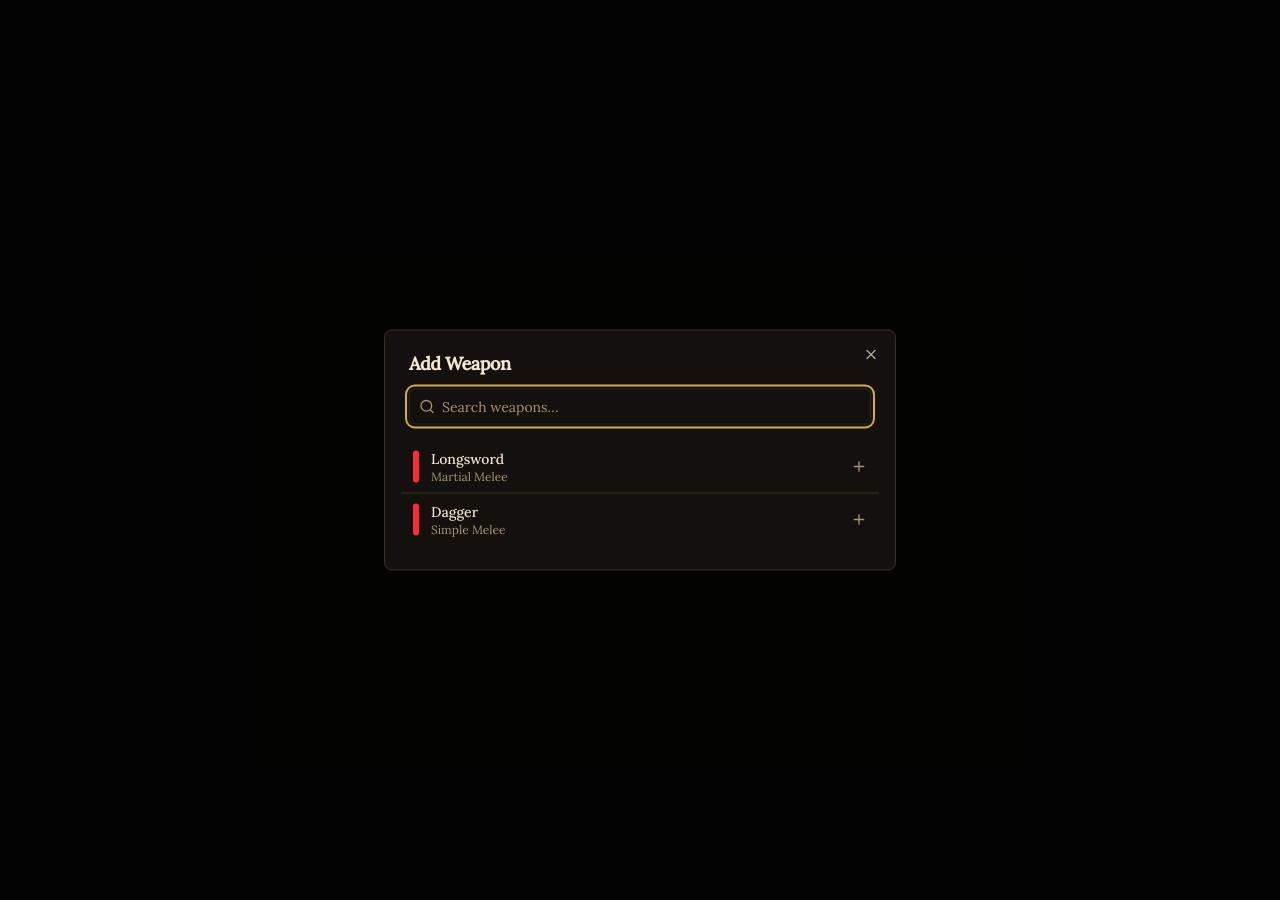
Test: ItemPickerDialog › filters by search
Expected: the text "Longsword" is shown, 431,450 -> 504,468
In the field with test id "item-picker-search": (640, 406) 409,388 -> 871,424, type "dag"
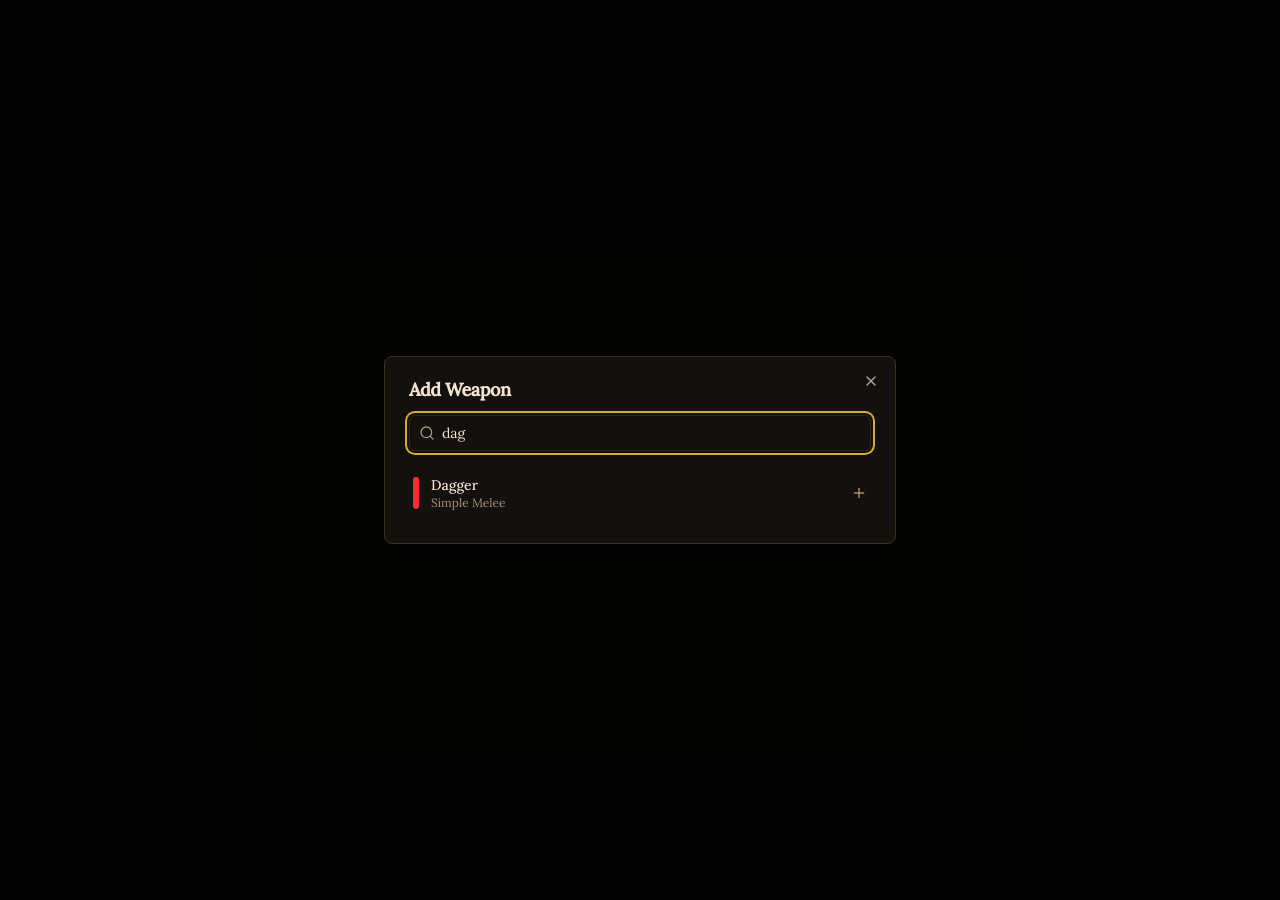
Expected: the text "Dagger" is shown, 431,476 -> 478,494
Result: the button "Longsword" is gone
